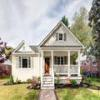stairs: (42, 76, 54, 90)
